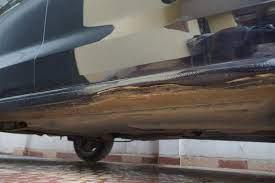RunningBoard-Dent: (89, 72, 205, 99)
